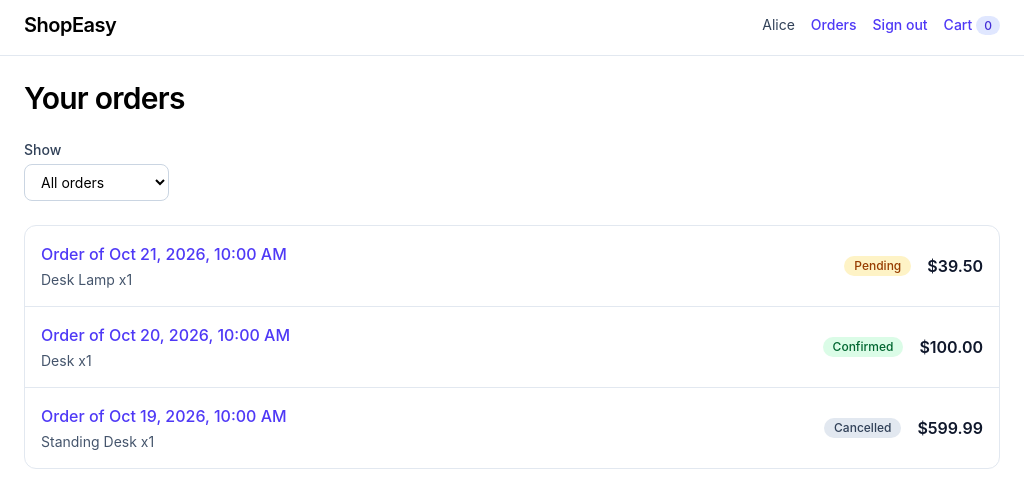
Test: OrdersPage › narrows the list by status, and puts it in the address
The width and height of the screenshot is (1024, 486).
Expected: the list is shown, [24, 225, 1000, 469]
Select "Confirmed" in the dropdown labelled "Show" at (96, 182), box [24, 164, 169, 201]
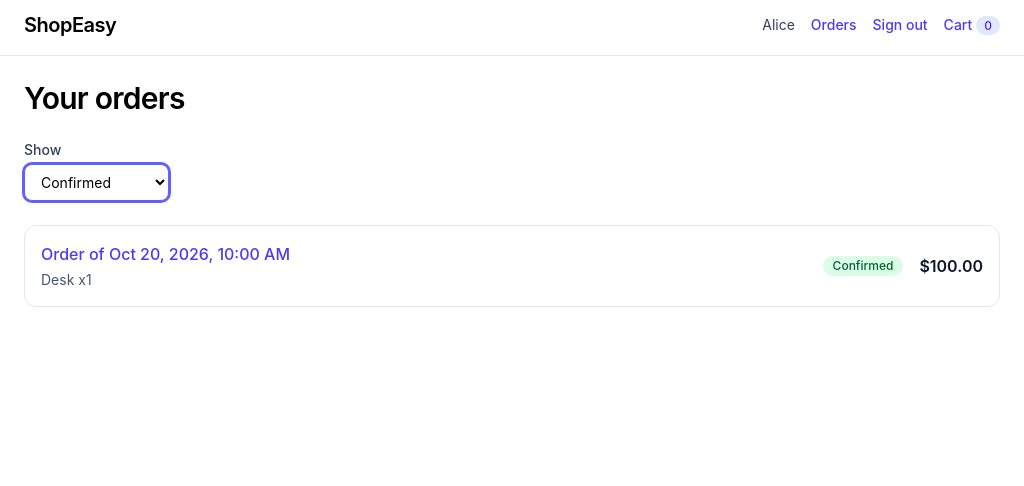
Expected: the text "Desk x1" is shown, [41, 271, 92, 288]
Result: the number of list items is 1 at [41, 244, 983, 288]
